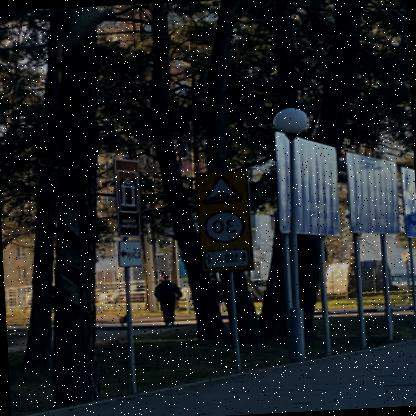speedlimit: (206, 207, 250, 243)
